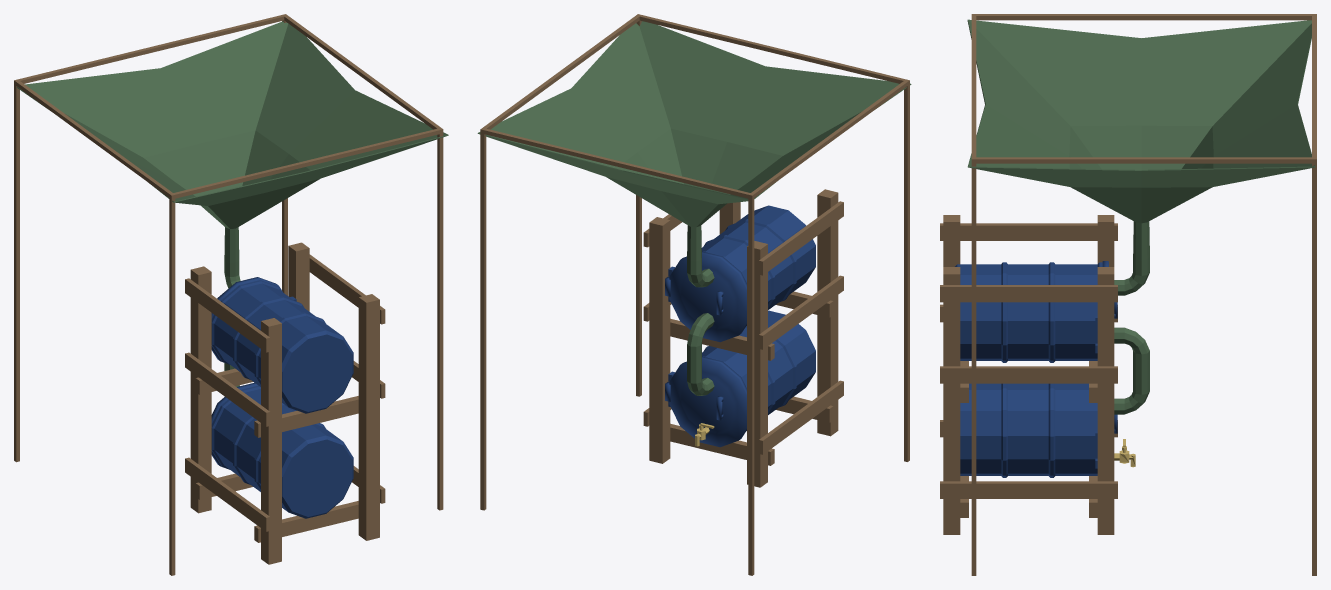
The model's file is Raincatcher_Bigger.fbx.
3 renders of one model, left to right at view 1: azimuth 30°, elevation 25°; view 2: azimuth 150°, elevation 25°; view 3: azimuth 270°, elevation 25°, orthographic. The views are drawn at different scales.
Parts seen in each view (by area): view 1: Plane.002, Cube.007, Rain Catcher Support, Rain Catcher Storage.001, Rain Catcher Storage; view 2: Plane.002, Cube.007, Rain Catcher Support, Rain Catcher Storage.001, Rain Catcher Storage Lid.001, Rain Catcher Storage Lid, Rain Catcher Storage; view 3: Plane.002, Cube.007, Rain Catcher Storage, Rain Catcher Support, Rain Catcher Storage.001.
Boxes of the visible parts, box(x1,y1,x2,y2) form: Plane.002: box(17, 21, 448, 386); Cube.007: box(185, 242, 385, 564); Rain Catcher Support: box(14, 14, 443, 575); Rain Catcher Storage.001: box(211, 280, 353, 413); Rain Catcher Storage: box(211, 385, 353, 518); Plane.002: box(477, 21, 911, 395); Cube.007: box(643, 189, 843, 487); Rain Catcher Support: box(480, 14, 909, 575); Rain Catcher Storage.001: box(668, 205, 815, 325); Rain Catcher Storage Lid.001: box(665, 356, 746, 447); Rain Catcher Storage Lid: box(665, 251, 746, 342); Rain Catcher Storage: box(668, 310, 815, 430); Plane.002: box(967, 19, 1315, 414); Cube.007: box(940, 215, 1117, 534); Rain Catcher Storage: box(960, 383, 1097, 477); Rain Catcher Support: box(971, 14, 1316, 575); Rain Catcher Storage.001: box(955, 262, 1102, 362).
Size of the model in its own units: 2.06 by 2.23 by 2.72.
